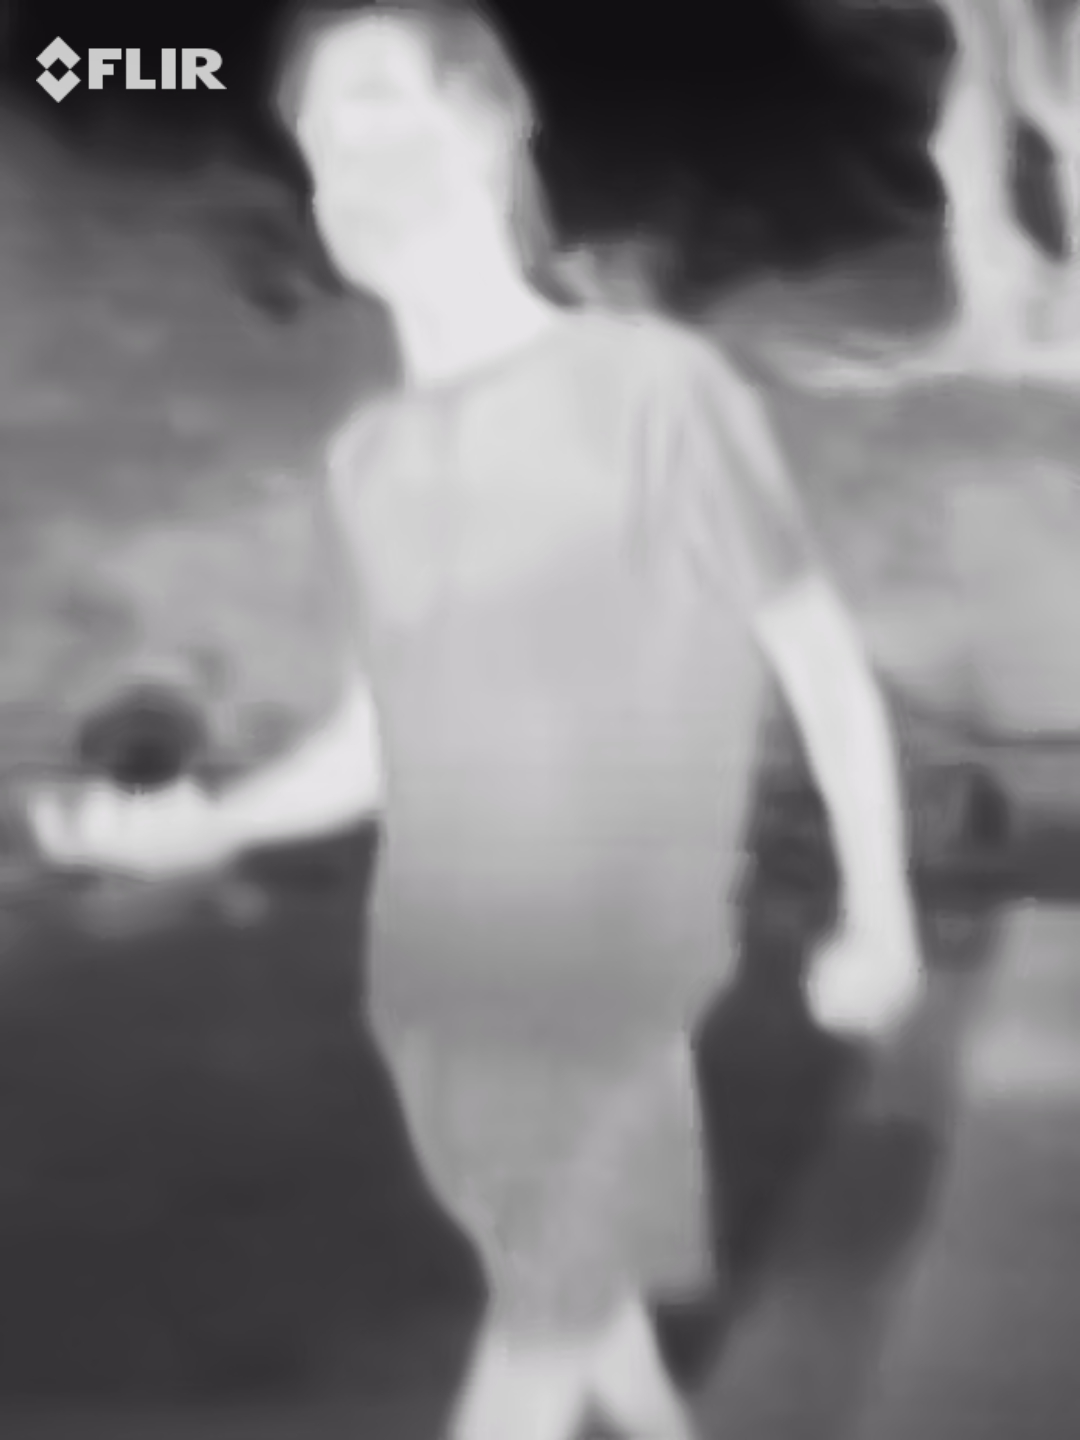head: (273, 7, 545, 292)
